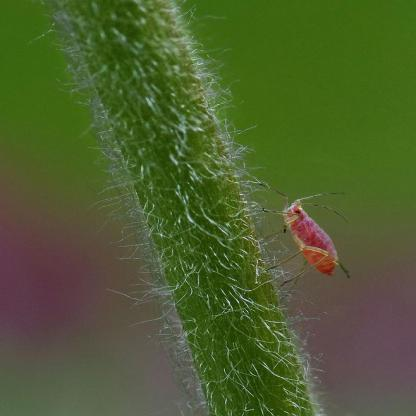aphid: (252, 183, 354, 292)
